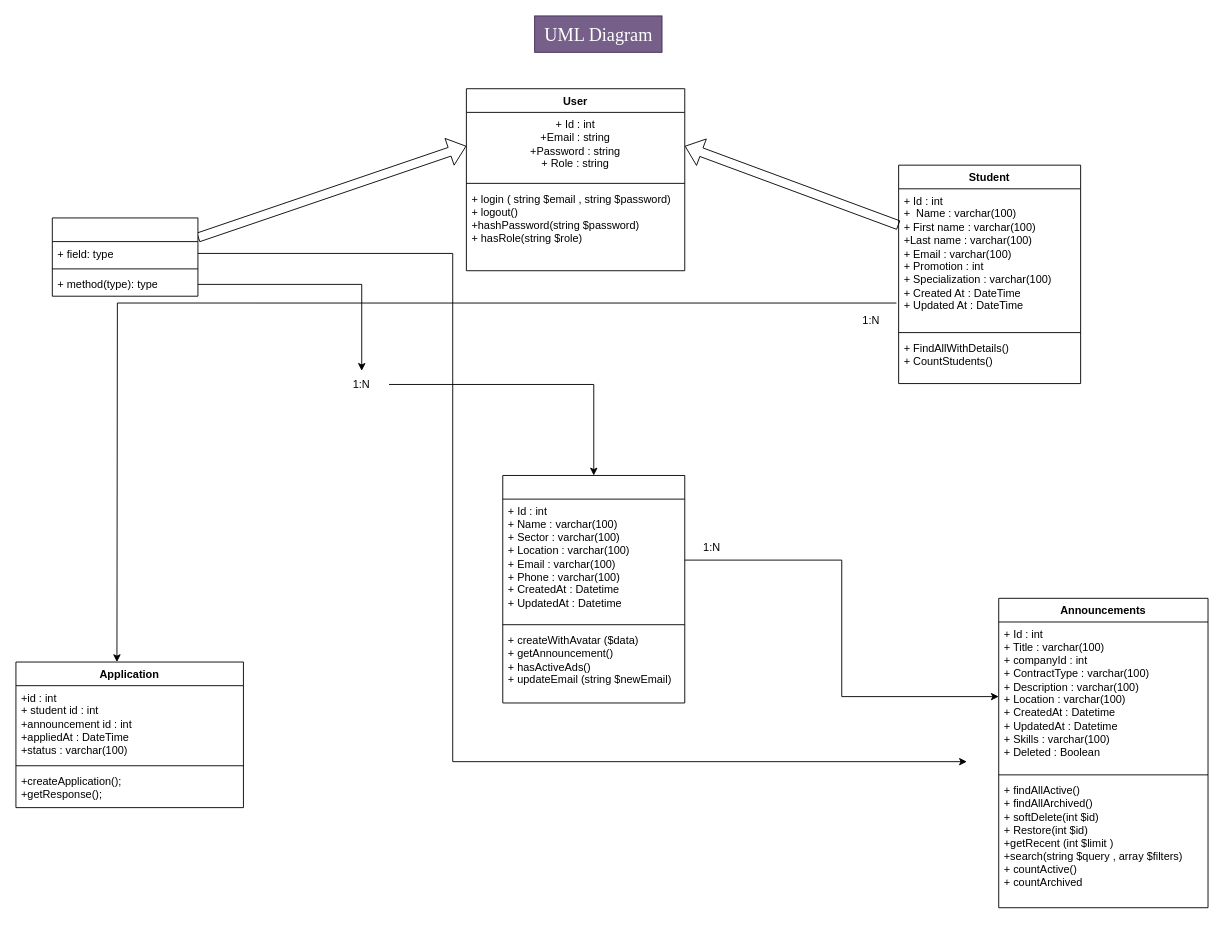
The diagram is 1224 pixels wide and 926 high, and some of its shapes have lost their labels. The shapes that lost their labels are listed below. From the top down, each one's box as (x1, y1, x2, y2) in pixels, then its label:
(51, 217, 198, 296): admin
(502, 475, 685, 703): Companies
